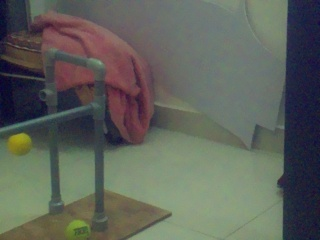ball: (7, 133, 31, 155)
